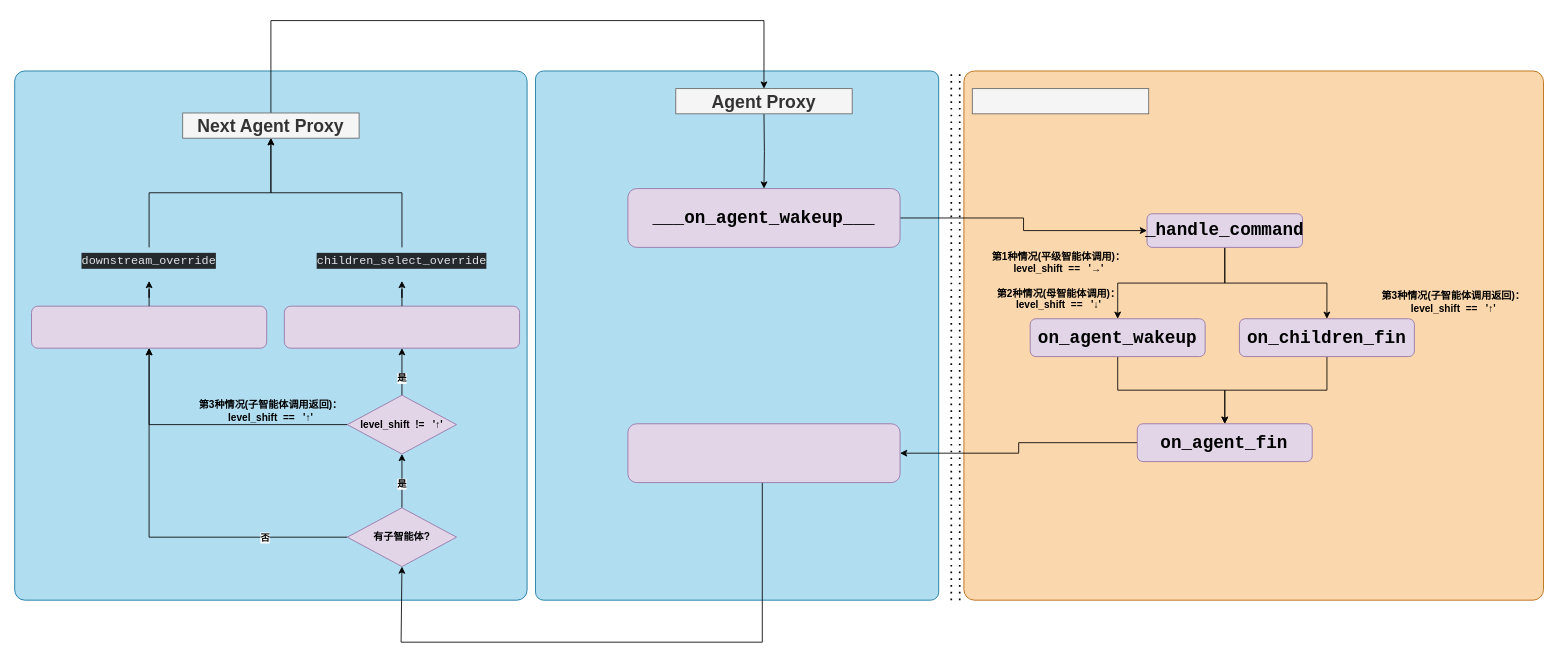
The diagram is 1558 pixels wide and 664 high, and some of its shapes have lost their labels. The centre of each missing label's shape, as x and y in pixels:
___on_agent_finish___: [763,453]
_wakeup_child_agent: [402,326]
Agent: [1060,101]
wakeup_downstream_agent: [149,326]
